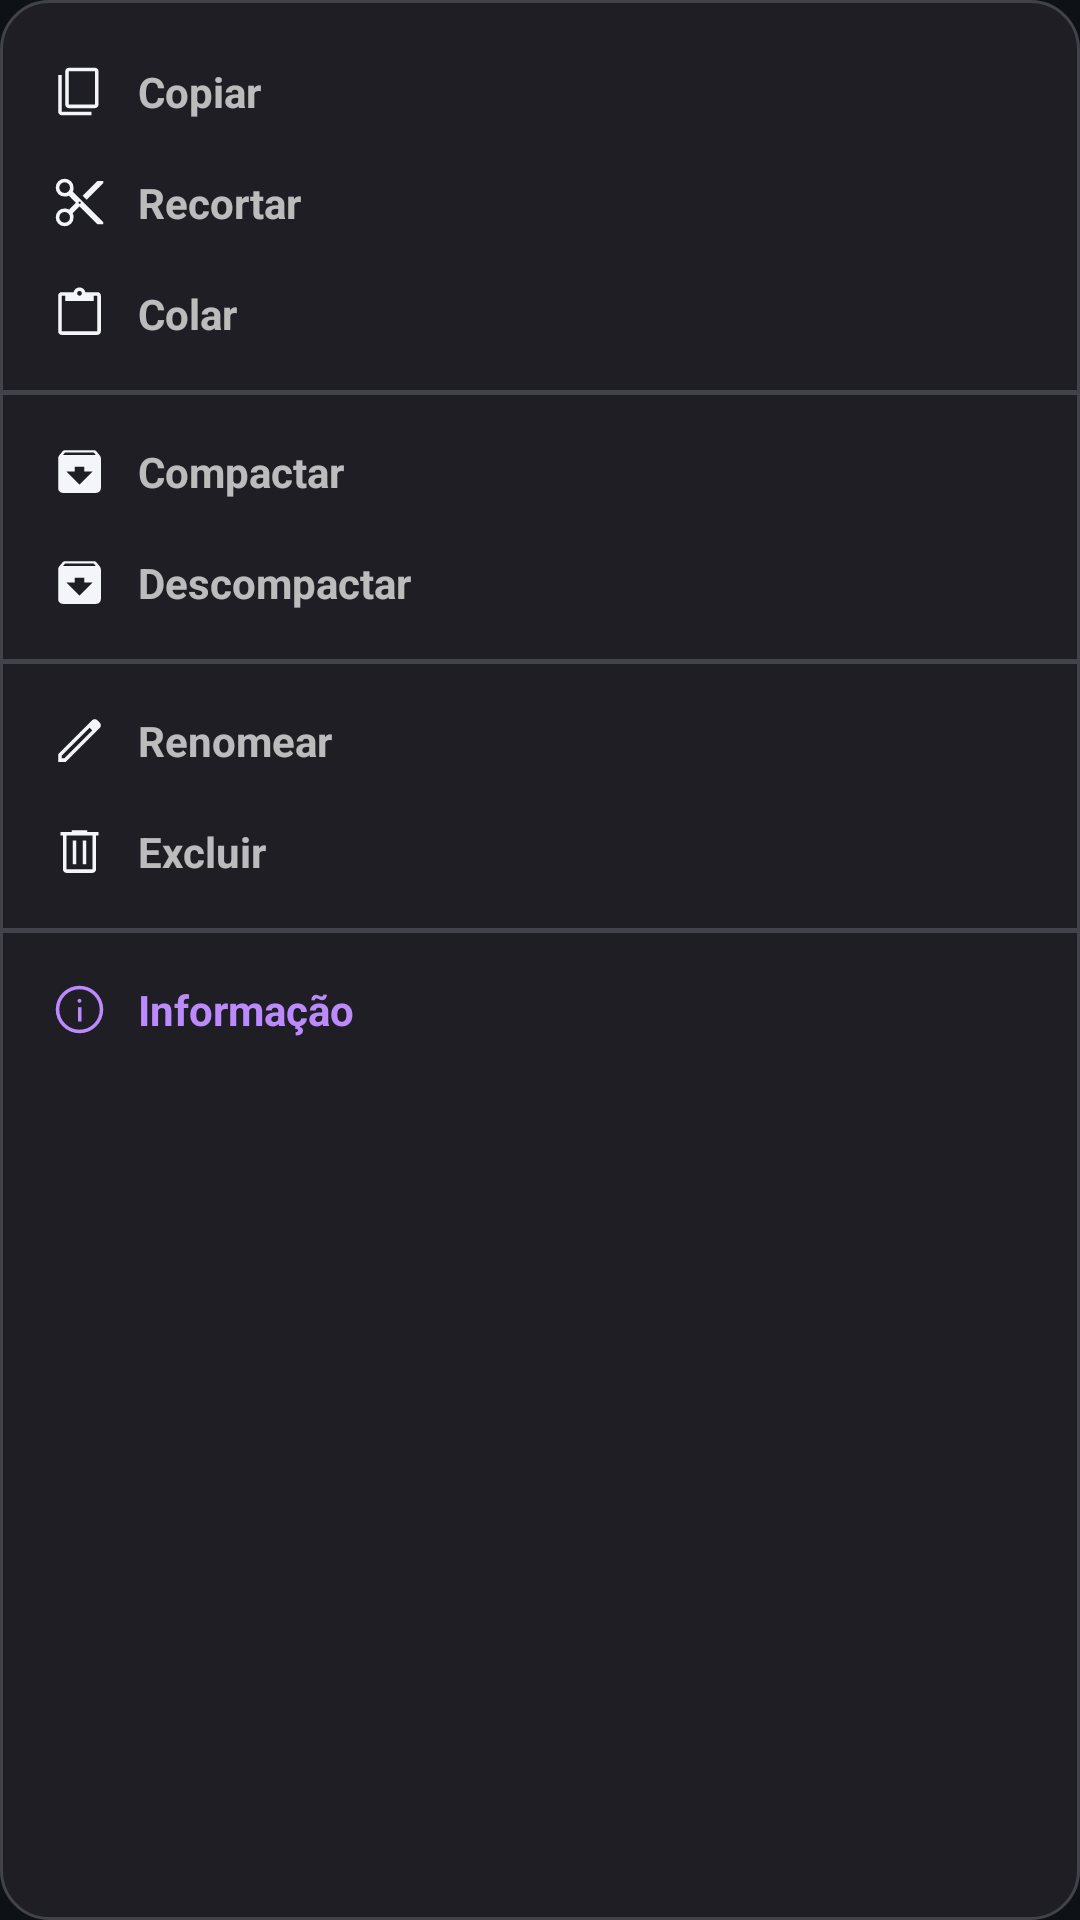

Named icons in this screenshot (1080×1920) and their centers, (x=x, y=y):
archive: (x=79, y=471), (x=79, y=582)
cut: (x=79, y=202)
delete: (x=79, y=851)
paste: (x=79, y=311)
rename: (x=79, y=740)
